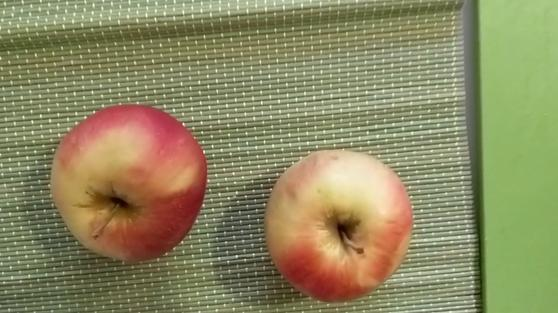apple: (49, 101, 210, 263), (267, 148, 413, 301)
